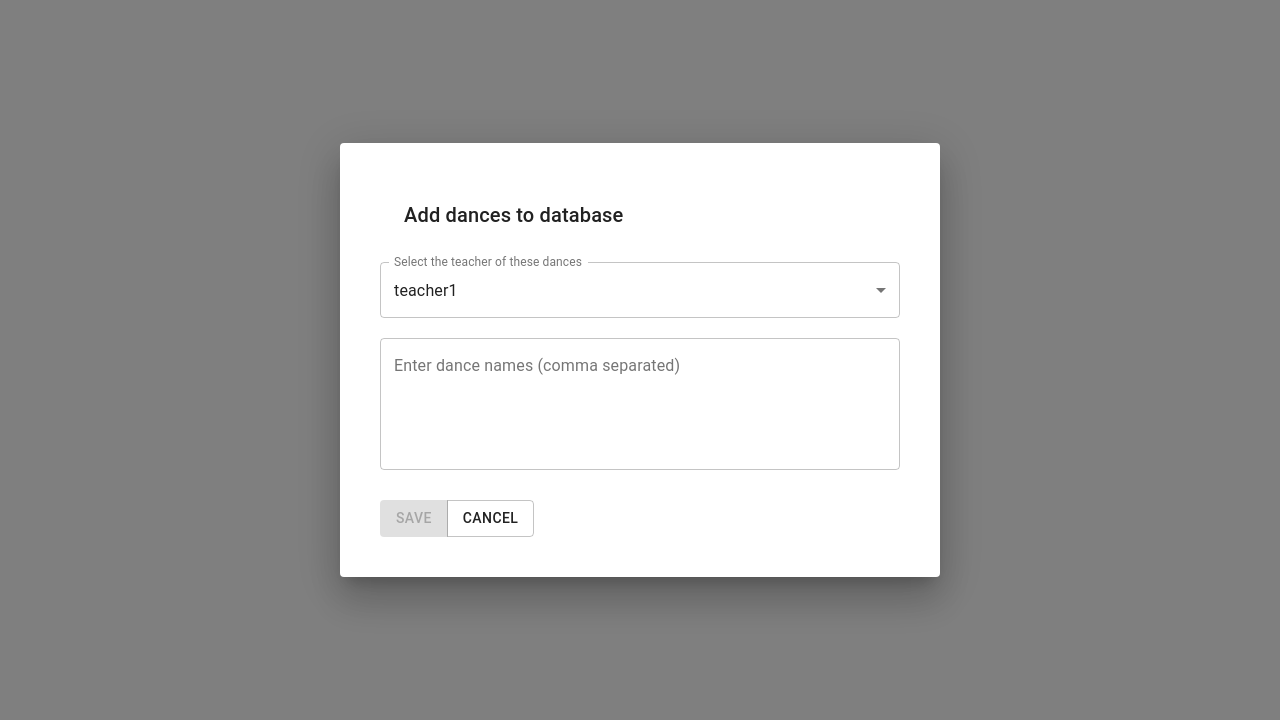
Test: if dialog type is 'dance' › enables the Save button if something is entered in the text area and there are teachers in the list
This screenshot has width=1280, height=720.
Expected: the button "Save" is disabled, [380, 500, 448, 537]
Type "something" into the text box at (640, 404), box [394, 357, 886, 452]
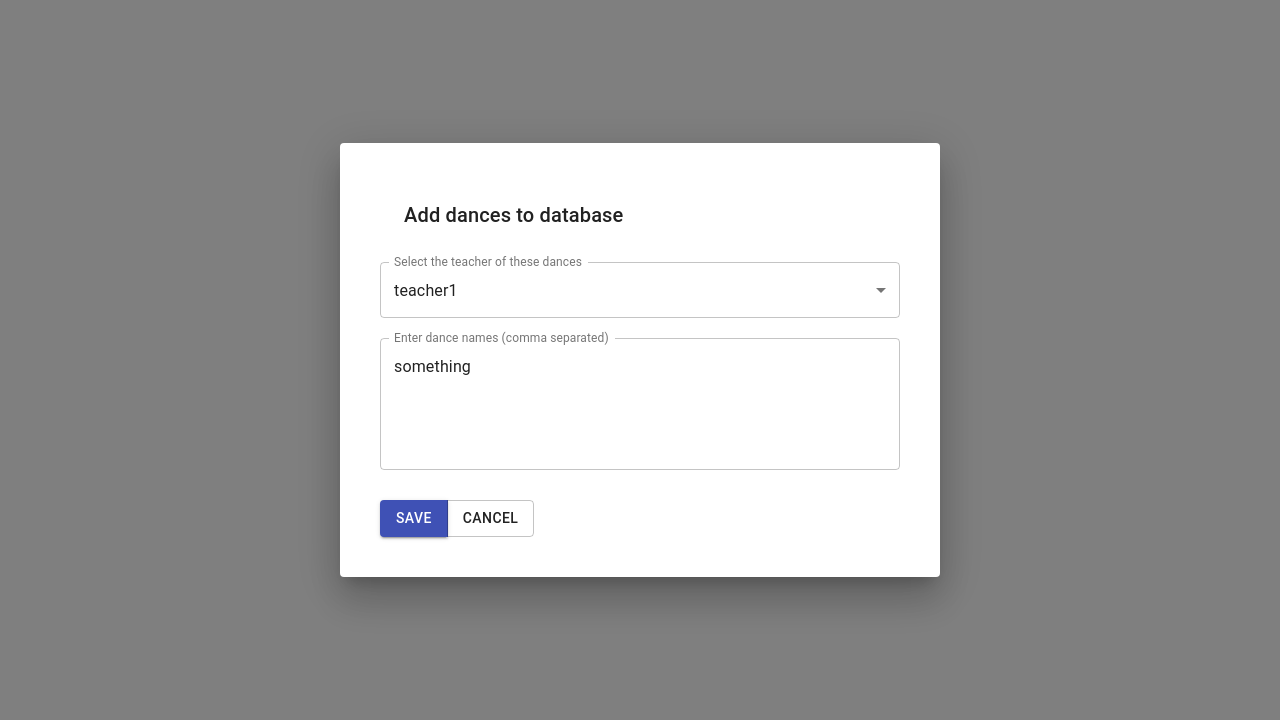
Expected: the button "Save" is enabled, [380, 500, 448, 537]
